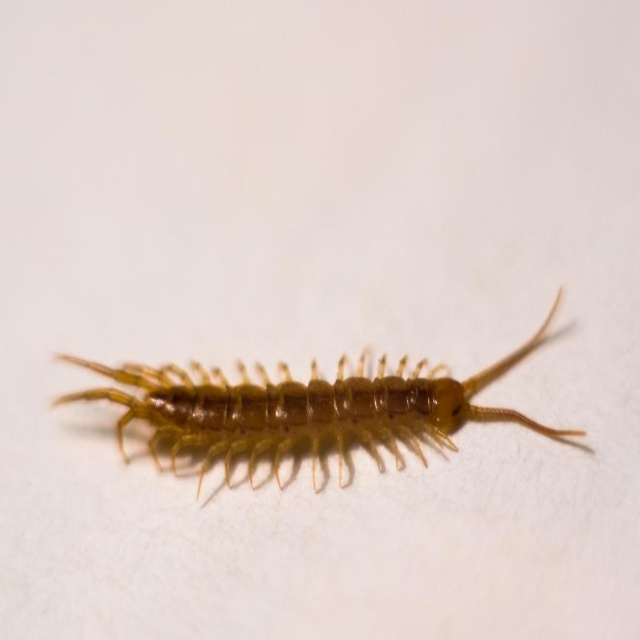Centipede: (50, 284, 588, 503)
